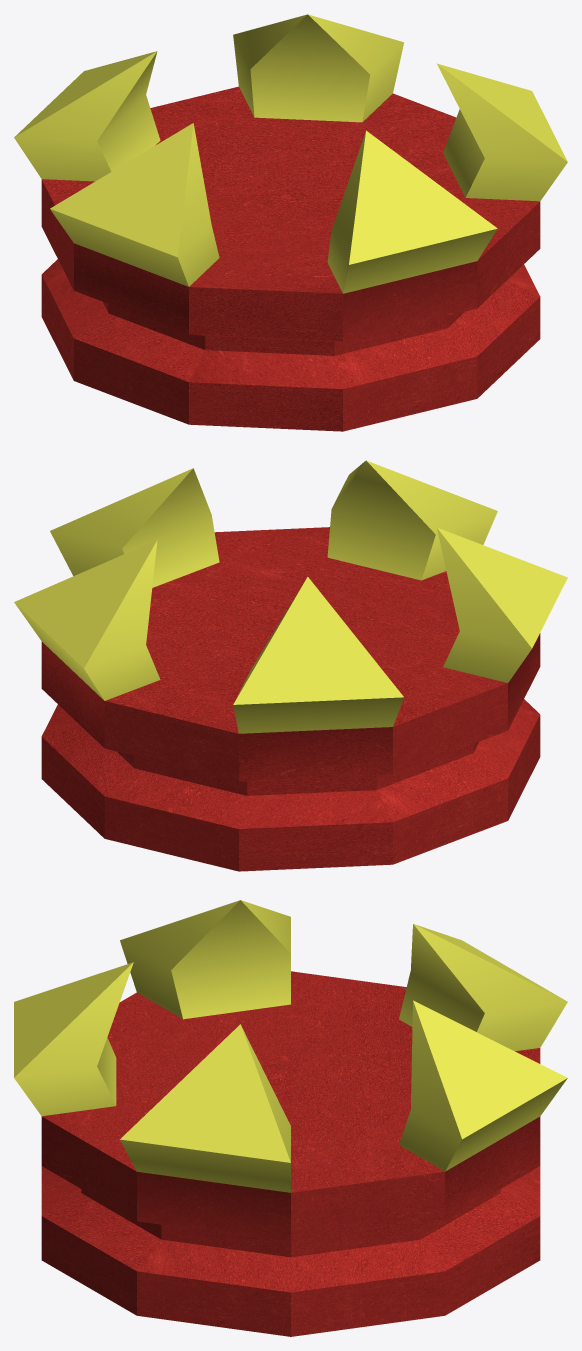
File: weaponPickup_platform.fbx
The picture shows the model from 3 angles, top to bottom: view 1: azimuth 30°, elevation 25°; view 2: azimuth 150°, elevation 25°; view 3: azimuth 270°, elevation 25°; orthographic projection. The views are drawn at different scales.
Visible parts, largest first — view 1: platform; view 2: platform; view 3: platform.
Part boxes in pixels (bbox=[...]): platform: bbox=[14, 14, 567, 431]; platform: bbox=[14, 460, 567, 871]; platform: bbox=[14, 900, 567, 1336].
Bounding box in the file's own units: 11.56 × 5.78 × 10.99.
Materials: 2 (1 with a texture image).
